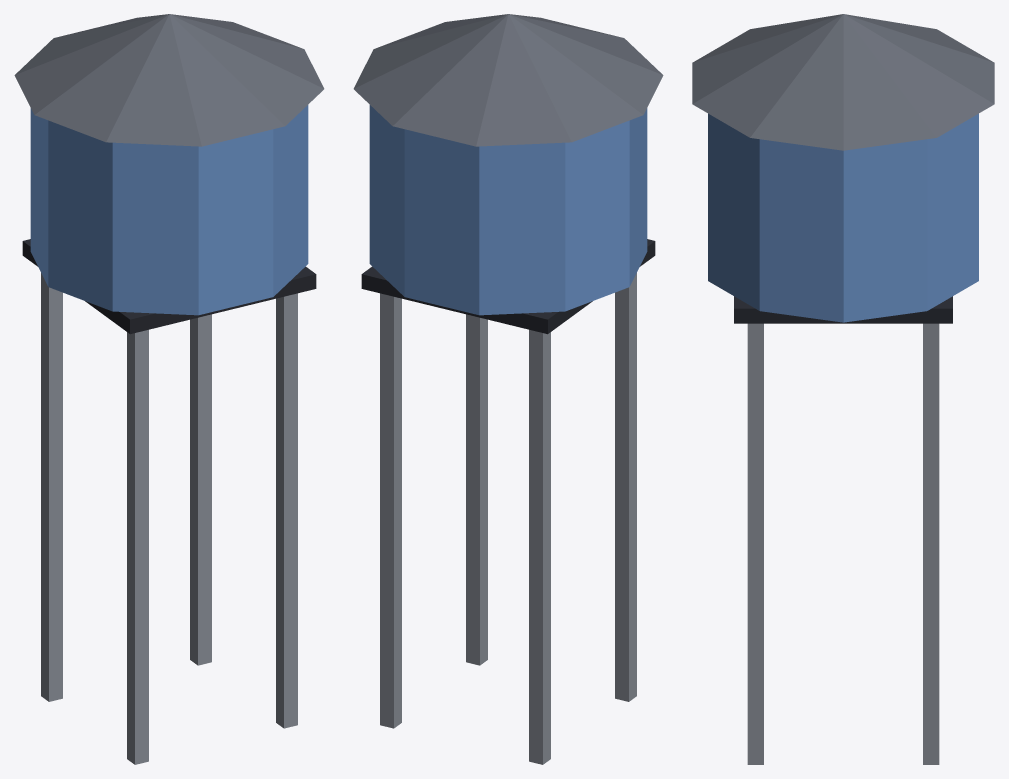
File: torre_agua.obj
3 renders of one model, left to right at view 1: azimuth 30°, elevation 25°; view 2: azimuth 150°, elevation 25°; view 3: azimuth 270°, elevation 25°, orthographic.
Visible parts, largest first — view 1: torre_agua; view 2: torre_agua; view 3: torre_agua.
Boxes of the visible parts, x1,y1,x2,y2 form: torre_agua: [14, 14, 324, 764]; torre_agua: [353, 14, 663, 764]; torre_agua: [692, 14, 994, 764].
Size of the model in its own units: 5.8 by 14.3 by 5.52.
